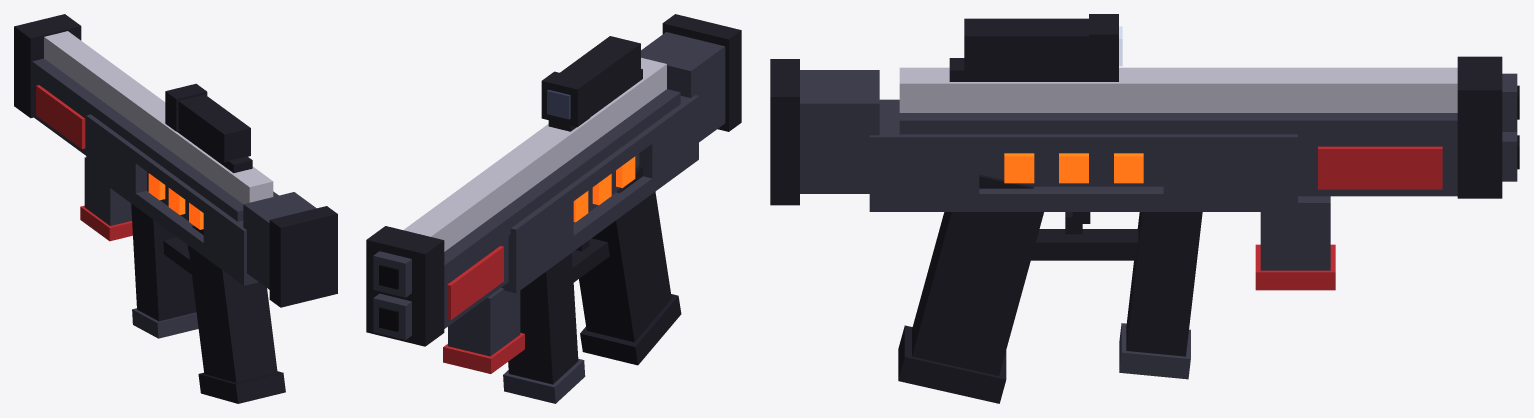
Rendered from heavy_gun_marine.lod1.glb.
3 views of the same model, side by side, from view 1: azimuth 30°, elevation 25°; view 2: azimuth 150°, elevation 25°; view 3: azimuth 270°, elevation 25° (orthographic). The views are drawn at different scales.
Parts seen in each view (by area): view 1: item.heavy_gun_marine.body, part.mag; view 2: item.heavy_gun_marine.body, part.mag; view 3: item.heavy_gun_marine.body, part.mag.
Boxes of the visible parts, x1,y1,x2,y2 form: item.heavy_gun_marine.body: (14,14,337,403); part.mag: (80,157,132,241); item.heavy_gun_marine.body: (366,14,741,403); part.mag: (443,288,524,373); item.heavy_gun_marine.body: (770,14,1519,403); part.mag: (1255,196,1335,290).
Bounding box in the file's own units: 0.1125 × 0.5039 × 0.9406.
